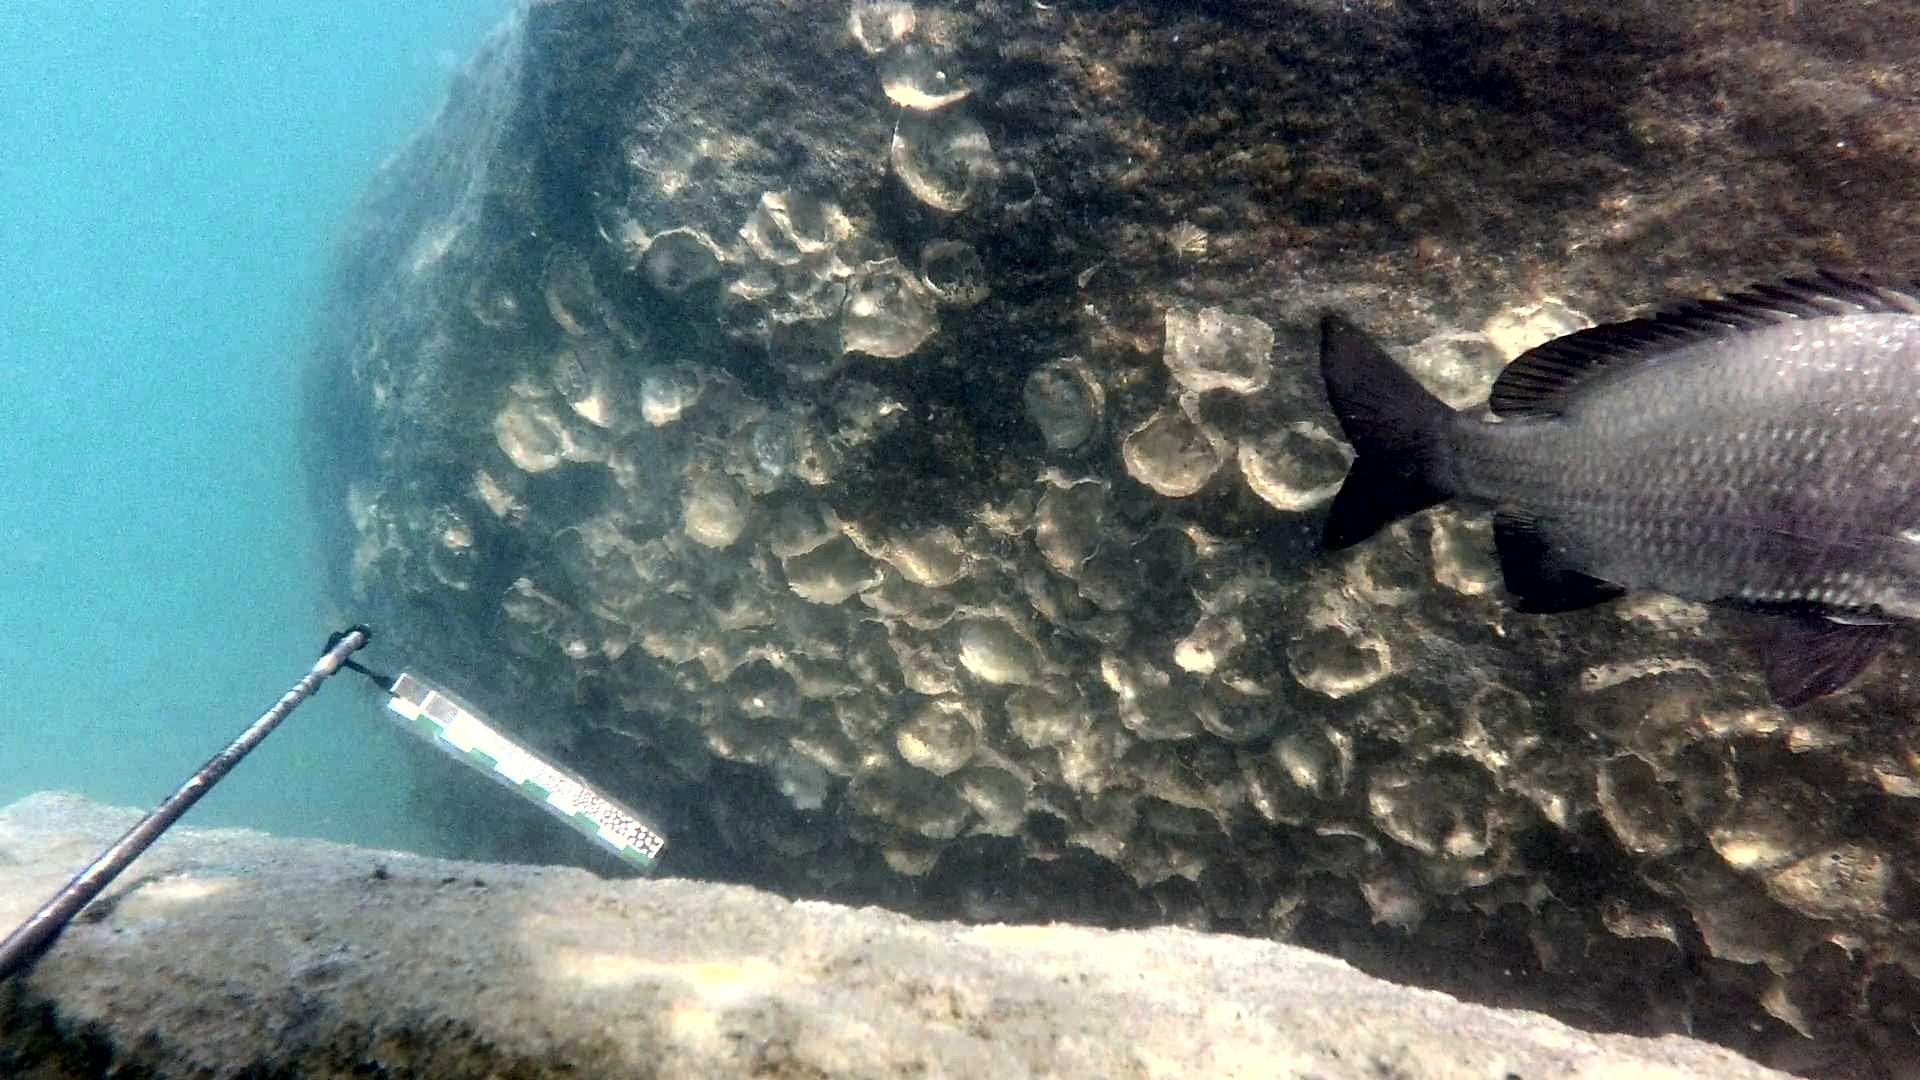acanthopagrus palmaris: (1307, 251, 1920, 723)
